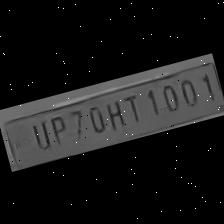0: (80, 100, 110, 137), (154, 77, 182, 115), (174, 72, 202, 109)
1: (194, 66, 220, 104), (138, 83, 163, 120)
7: (63, 104, 90, 142)
H: (100, 94, 129, 132)
P: (43, 110, 72, 148)
T: (120, 88, 148, 128)
U: (25, 116, 54, 153)
